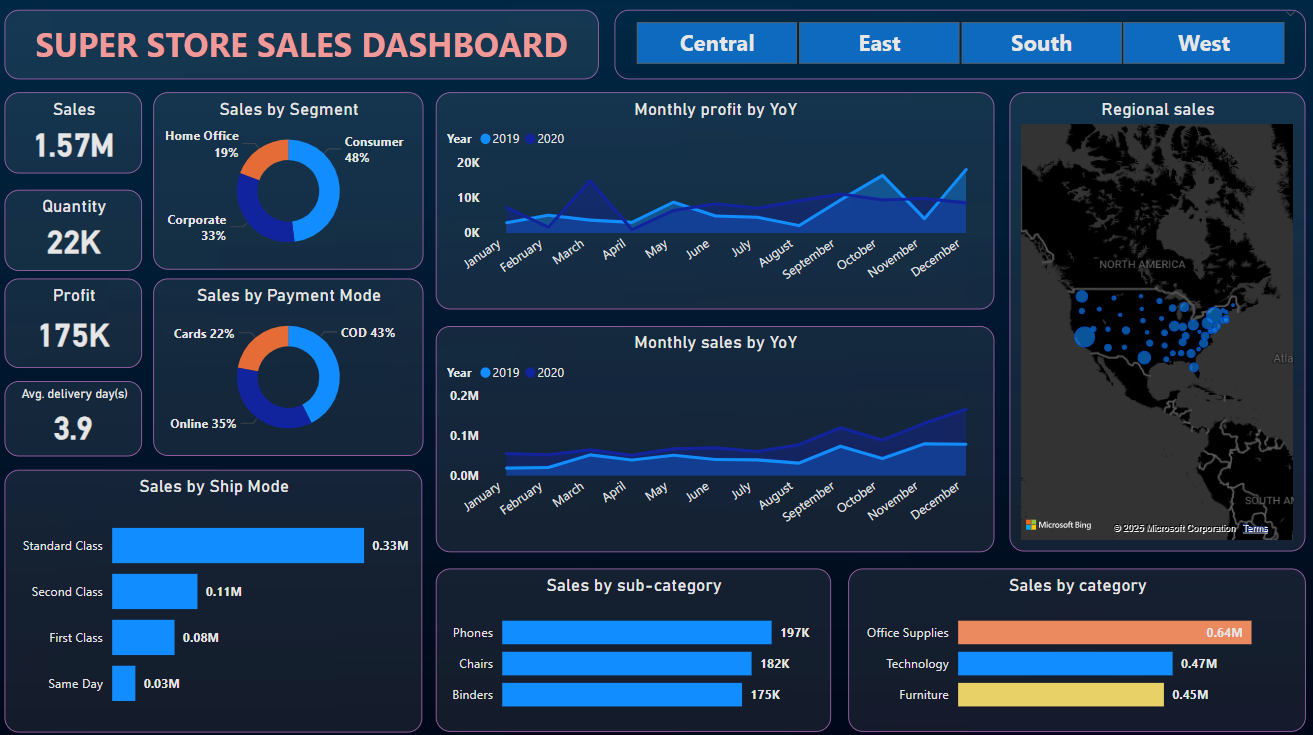

Layout of this report page (visuals, bound fields, positions):
{"tool":"powerbi","page":{"name":"Dashboard","canvas":[1280,720],"ordinal":0},"visuals":[{"type":"clusteredBarChart","title":"Sales by category","fields":{"Category":["SuperStore_Sales_Dataset.Category"],"Y":["Sum(SuperStore_Sales_Dataset.Sales)"]},"box":[826.1,553,441.9,157.8],"z":0},{"type":"clusteredBarChart","title":"Sales by sub-category","fields":{"Y":["Sum(SuperStore_Sales_Dataset.Sales)"],"Category":["SuperStore_Sales_Dataset.Sub-Category"]},"box":[428.1,553,381.5,157.8],"z":1000},{"type":"clusteredBarChart","title":"Sales by Ship Mode","fields":{"Y":["Sum(SuperStore_Sales_Dataset.Sales)"],"Category":["SuperStore_Sales_Dataset.Ship Mode"]},"box":[12.3,456.9,403.4,253.9],"z":2000},{"type":"areaChart","title":"Monthly sales by YoY","fields":{"Category":["SuperStore_Sales_Dataset.Order Date.Variation.Date Hierarchy.Month","SuperStore_Sales_Dataset.Order Date.Variation.Date Hierarchy.Day"],"Y":["Sum(SuperStore_Sales_Dataset.Sales)"],"Series":["SuperStore_Sales_Dataset.Order Date.Variation.Date Hierarchy.Year"]},"box":[428.1,318.4,539.3,218.2],"z":3000},{"type":"areaChart","title":"Monthly profit by YoY","fields":{"Category":["SuperStore_Sales_Dataset.Order Date.Variation.Date Hierarchy.Month","SuperStore_Sales_Dataset.Order Date.Variation.Date Hierarchy.Day"],"Series":["SuperStore_Sales_Dataset.Order Date.Variation.Date Hierarchy.Year"],"Y":["Sum(SuperStore_Sales_Dataset.Profit)"]},"box":[428.1,93.3,539.3,209.9],"z":4000},{"type":"map","title":"Regional sales","fields":{"Category":["SuperStore_Sales_Dataset.State"],"Size":["Sum(SuperStore_Sales_Dataset.Sales)"]},"box":[982.5,93.3,285.4,443.2],"z":5000},{"type":"donutChart","title":"Sales by Segment","fields":{"Category":["SuperStore_Sales_Dataset.Segment"],"Y":["Sum(SuperStore_Sales_Dataset.Sales)"]},"box":[155.1,93.3,260.7,171.5],"z":6000},{"type":"donutChart","title":"Sales by Payment Mode","fields":{"Y":["Sum(SuperStore_Sales_Dataset.Sales)"],"Category":["SuperStore_Sales_Dataset.Payment Mode"]},"box":[155.1,273.1,260.7,171.5],"z":7000},{"type":"slicer","fields":{"Values":["SuperStore_Sales_Dataset.Region"]},"box":[601,13.7,666.9,67.2],"z":8000},{"type":"textbox","box":[12.3,13.7,573.6,67.2],"z":9000},{"type":"card","title":"Sales","fields":{"Values":["Sum(SuperStore_Sales_Dataset.Sales)"]},"box":[12.3,93.3,133.1,78.2],"z":10000},{"type":"card","title":"Quantity","fields":{"Values":["Sum(SuperStore_Sales_Dataset.Quantity)"]},"box":[12.3,186.6,133.1,78.2],"z":11000},{"type":"card","title":"Profit","fields":{"Values":["Sum(SuperStore_Sales_Dataset.Profit)"]},"box":[12.3,273.1,133.1,86.4],"z":12000},{"type":"card","title":"Avg. delivery day(s)","fields":{"Values":["Avg(SuperStore_Sales_Dataset.Average Delivery)"]},"box":[12.3,371.9,133.1,72.7],"z":13000}]}

Visuals, with their boxes in screenshot pixels (x1, y1, x2, y2), scaled from the page's 1280x720 canvas onto the 1313x735 screenshot:
"Sales by category" clusteredBarChart: 847 565 1301 726
"Sales by sub-category" clusteredBarChart: 439 565 830 726
"Sales by Ship Mode" clusteredBarChart: 13 466 426 726
"Monthly sales by YoY" areaChart: 439 325 992 548
"Monthly profit by YoY" areaChart: 439 95 992 310
"Regional sales" map: 1008 95 1301 548
"Sales by Segment" donutChart: 159 95 427 270
"Sales by Payment Mode" donutChart: 159 279 427 454
slicer - SuperStore_Sales_Dataset.Region: 616 14 1301 83
textbox: 13 14 601 83
"Sales" card: 13 95 149 175
"Quantity" card: 13 190 149 270
"Profit" card: 13 279 149 367
"Avg. delivery day(s)" card: 13 380 149 454
